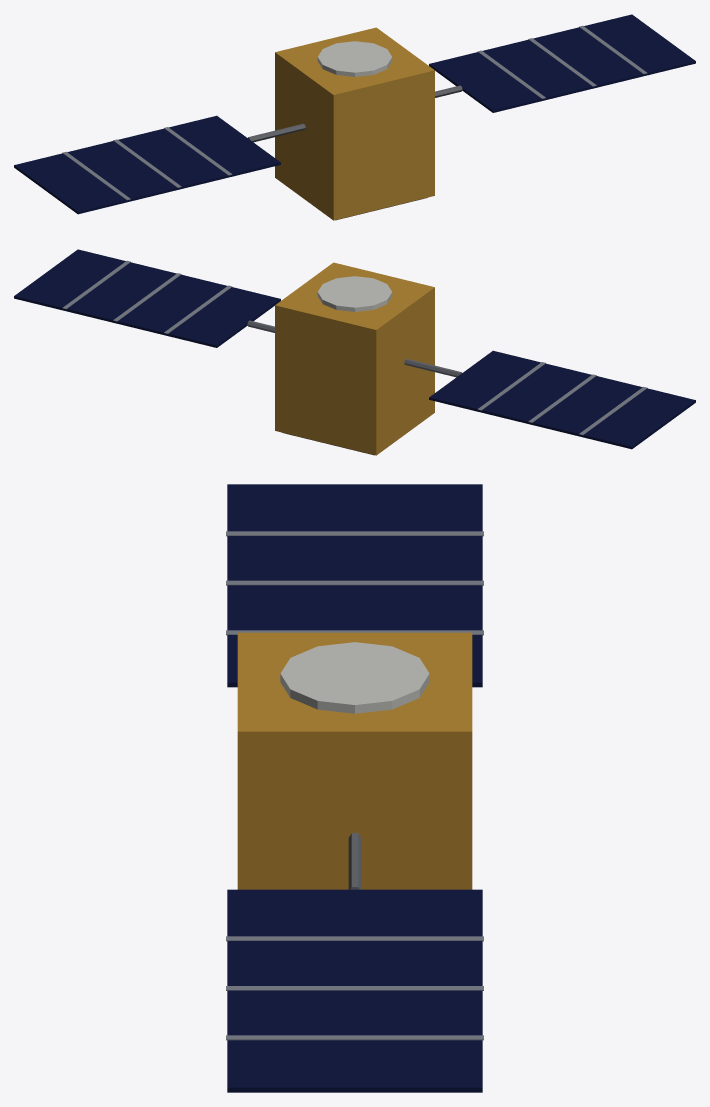
Rendered from oneweb.glb.
3 views of the same model, one above another, from view 1: azimuth 30°, elevation 25°; view 2: azimuth 150°, elevation 25°; view 3: azimuth 270°, elevation 25° (orthographic). The views are drawn at different scales.
Parts seen in each view (by area): view 1: oneweb; view 2: oneweb; view 3: oneweb.
Part boxes in pixels (left/top/right/bottom): oneweb: left=14, top=14, right=695, bottom=220; oneweb: left=14, top=249, right=695, bottom=455; oneweb: left=226, top=484, right=483, bottom=1092.
Bounding box in the file's own units: 6.7 × 1.38 × 1.21.
